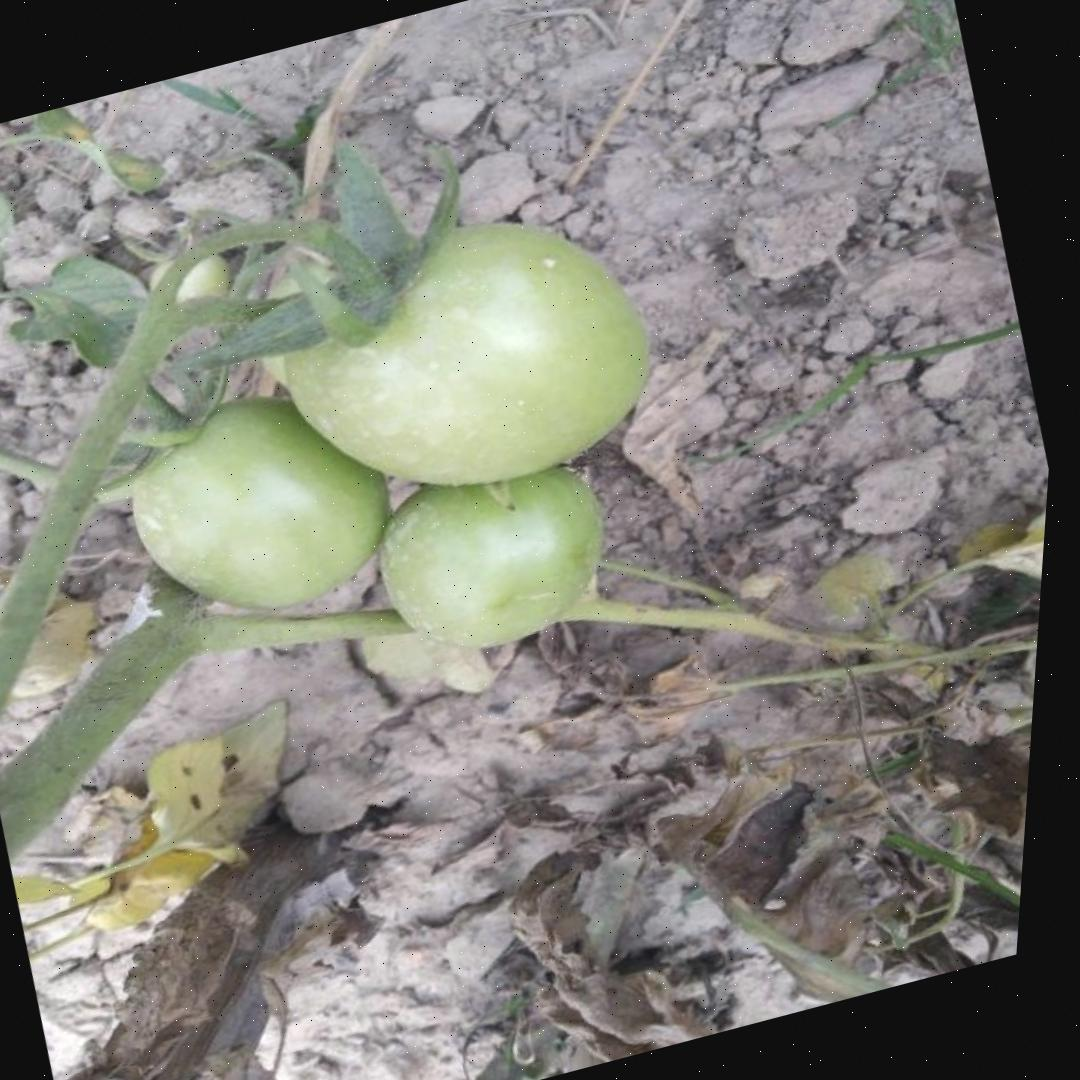mentah: (242, 185, 689, 539), (97, 366, 419, 646), (354, 441, 634, 672)
